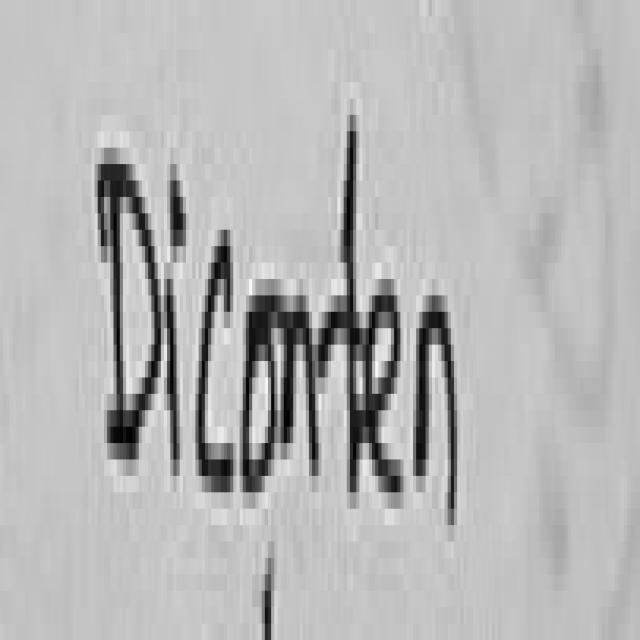D: (98, 164, 161, 459)
c: (199, 230, 233, 492)
e: (366, 295, 404, 492)
i: (167, 279, 180, 468), (170, 164, 186, 263)
n: (416, 295, 457, 517), (281, 295, 318, 468)
o: (243, 295, 277, 492)
t: (318, 115, 372, 484)
